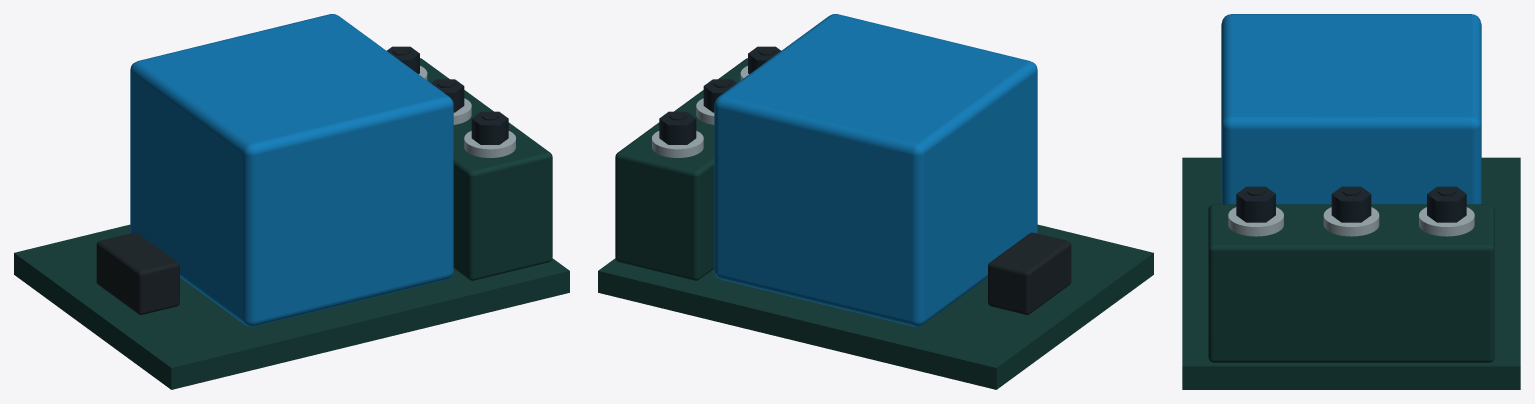
Rendered from relay.glb.
The picture shows the model from 3 angles, left to right: view 1: azimuth 30°, elevation 25°; view 2: azimuth 150°, elevation 25°; view 3: azimuth 270°, elevation 25°; orthographic projection. The views are drawn at different scales.
Visible parts, largest first — view 1: relay-enclosure, pcb-solder-mask, matte-polymer, black-anodised, stainless-steel; view 2: relay-enclosure, pcb-solder-mask, matte-polymer, black-anodised, stainless-steel; view 3: pcb-solder-mask, relay-enclosure, black-anodised, stainless-steel, matte-polymer.
Part boxes in pixels (box(x1,y1,x2,y2)): relay-enclosure: box(130, 14, 453, 326); pcb-solder-mask: box(14, 58, 569, 389); matte-polymer: box(96, 47, 498, 314); black-anodised: box(387, 46, 508, 144); stainless-steel: box(419, 66, 515, 157); relay-enclosure: box(714, 14, 1037, 326); pcb-solder-mask: box(598, 58, 1153, 389); matte-polymer: box(669, 47, 1071, 314); black-anodised: box(659, 46, 780, 144); stainless-steel: box(652, 66, 748, 157); pcb-solder-mask: box(1182, 157, 1520, 389); relay-enclosure: box(1221, 14, 1481, 204); black-anodised: box(1236, 186, 1466, 222); stainless-steel: box(1228, 207, 1474, 236); matte-polymer: box(1246, 187, 1456, 195).
Size of the model in its own units: 0.57 by 0.28 by 0.39.
